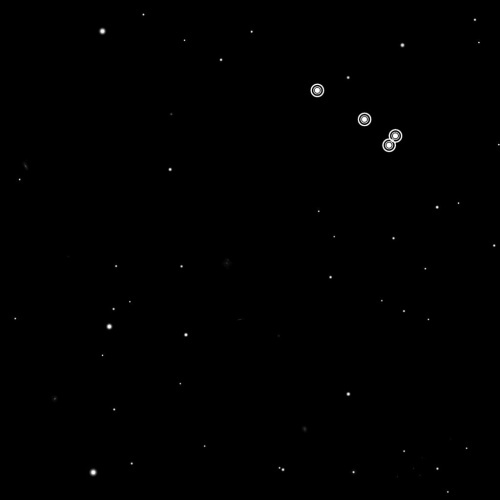sagitta: (305, 78, 411, 158)
